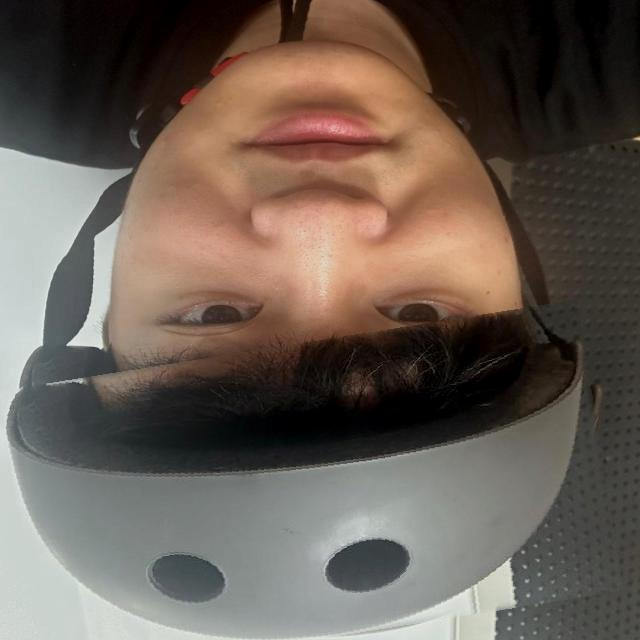helmet: (9, 322, 614, 640)
